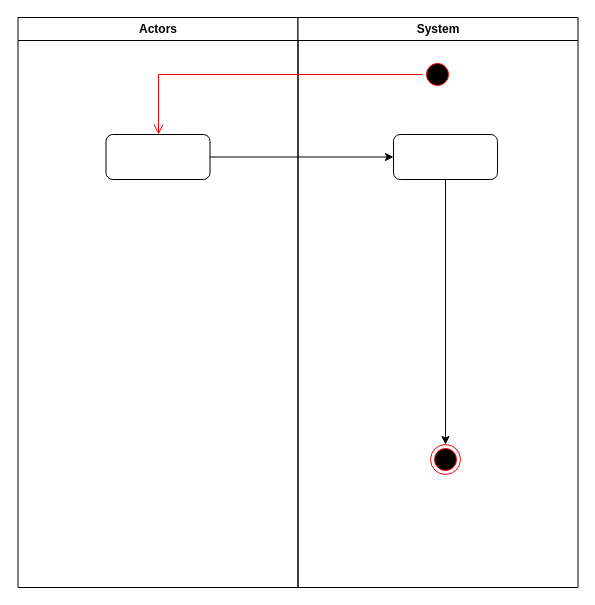
This 595x605 diagram has some shape labels left out. Each missing label, with the centre of its shape:
"Display Logbook Information" belongs at pixel 445 157.
"Open Electronic LogBook" belongs at pixel 157 157.
